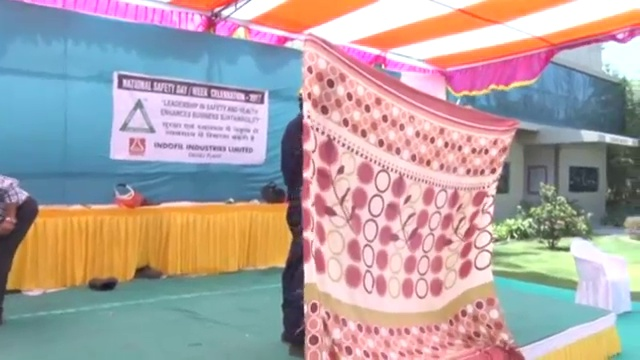person: (277, 85, 321, 354), (1, 174, 41, 321)
